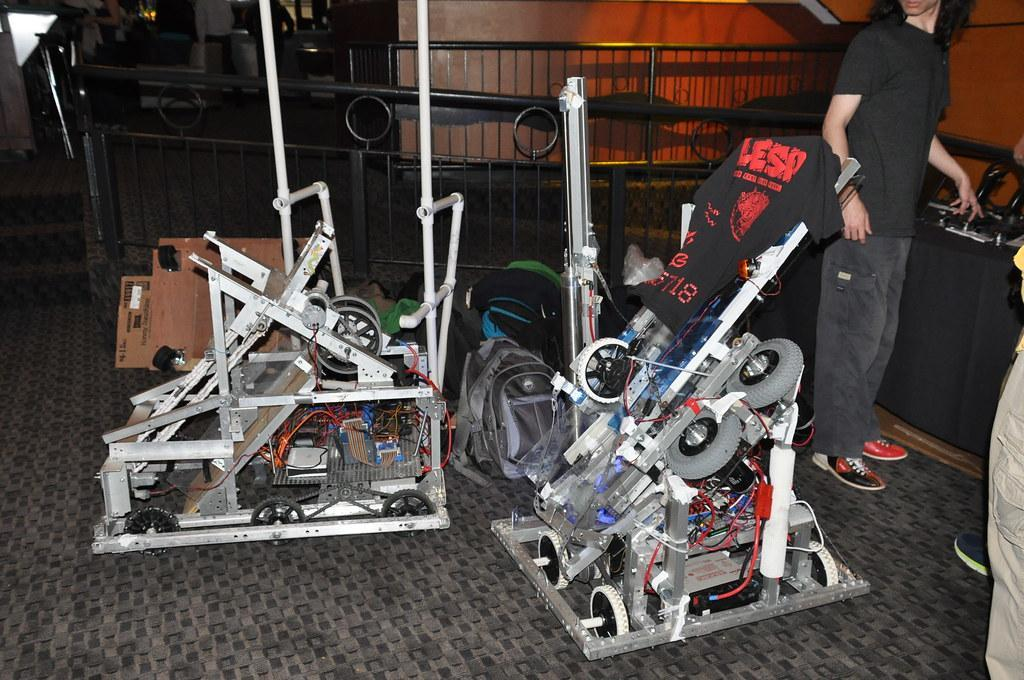robot: (483, 73, 877, 660), (84, 172, 470, 555)
